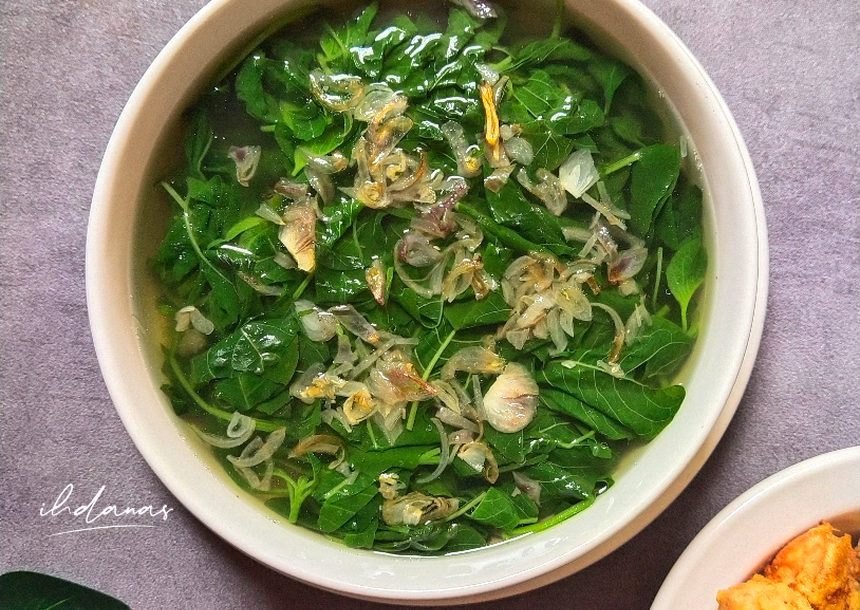Sayur Bayam: (95, 5, 801, 575)
